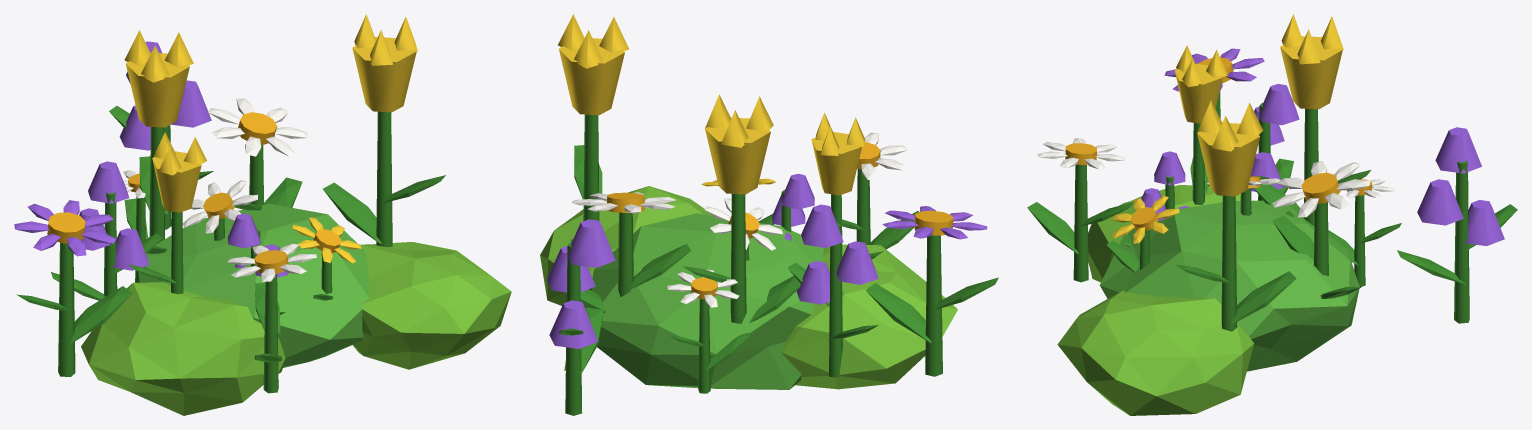
Rendered from macizo_flores_v2.glb.
3 views of the same model, side by side, from view 1: azimuth 30°, elevation 25°; view 2: azimuth 150°, elevation 25°; view 3: azimuth 270°, elevation 25° (orthographic). The views are drawn at different scales.
Parts seen in each view (by area): view 1: mata_3, mata_1, mata_2, tallo (×8), copa (×3), centro (×5), hoja_1 (×3), campana_1 (×2), campana_3 (×2), campana_2 (×2), hoja_2 (×3), punta_3 (×2) (+2 smaller); view 2: mata_1, tallo (×8), mata_3, copa (×3), hoja_1 (×5), campana_1 (×3), mata_2, campana_2 (×3), campana_3 (×2), centro (×4), hoja_2 (×3), punta_1 (×2) (+2 smaller); view 3: mata_1, mata_2, tallo (×7), copa (×3), campana_1 (×3), hoja_1 (×4), mata_3, campana_3 (×2), centro (×3), campana_2, hoja_2 (×2), punta_3 (×2) (+2 smaller).
Part boxes in pixels (bbox=[...]): mata_3: bbox=[81, 282, 285, 415]; mata_1: bbox=[138, 203, 369, 367]; mata_2: bbox=[353, 242, 511, 369]; tallo (×8): bbox=[58, 111, 392, 393]; copa (×3): bbox=[125, 37, 416, 212]; centro (×5): bbox=[47, 112, 340, 274]; hoja_1 (×3): bbox=[68, 177, 381, 344]; campana_1 (×2): bbox=[88, 161, 259, 248]; campana_3 (×2): bbox=[113, 105, 150, 270]; campana_2 (×2): bbox=[79, 80, 211, 250]; hoja_2 (×3): bbox=[139, 156, 445, 333]; punta_3 (×2): bbox=[164, 30, 393, 67]; mata_1: bbox=[591, 213, 823, 389]; tallo (×8): bbox=[565, 114, 942, 415]; mata_3: bbox=[781, 244, 957, 389]; copa (×3): bbox=[559, 38, 861, 195]; hoja_1 (×5): bbox=[564, 211, 931, 372]; campana_1 (×3): bbox=[567, 173, 843, 267]; mata_2: bbox=[540, 186, 712, 308]; campana_2 (×3): bbox=[547, 194, 878, 292]; campana_3 (×2): bbox=[549, 261, 829, 348]; centro (×4): bbox=[607, 142, 953, 299]; hoja_2 (×3): bbox=[574, 145, 998, 310]; punta_1 (×2): bbox=[574, 30, 773, 131]; mata_1: bbox=[1099, 200, 1359, 371]; mata_2: bbox=[1057, 290, 1253, 415]; tallo (×7): bbox=[1073, 108, 1469, 331]; copa (×3): bbox=[1174, 36, 1342, 196]; campana_1 (×3): bbox=[1154, 84, 1481, 185]; hoja_1 (×4): bbox=[1027, 184, 1465, 325]; mata_3: bbox=[1088, 185, 1240, 282]; campana_3 (×2): bbox=[1250, 152, 1504, 246]; centro (×3): bbox=[1065, 143, 1340, 230]; campana_2: bbox=[1417, 179, 1463, 225]; hoja_2 (×2): bbox=[1106, 215, 1314, 272]; punta_3 (×2): bbox=[1197, 29, 1320, 134].
Bounding box in the file's own units: 2.07 × 1.35 × 1.97.
